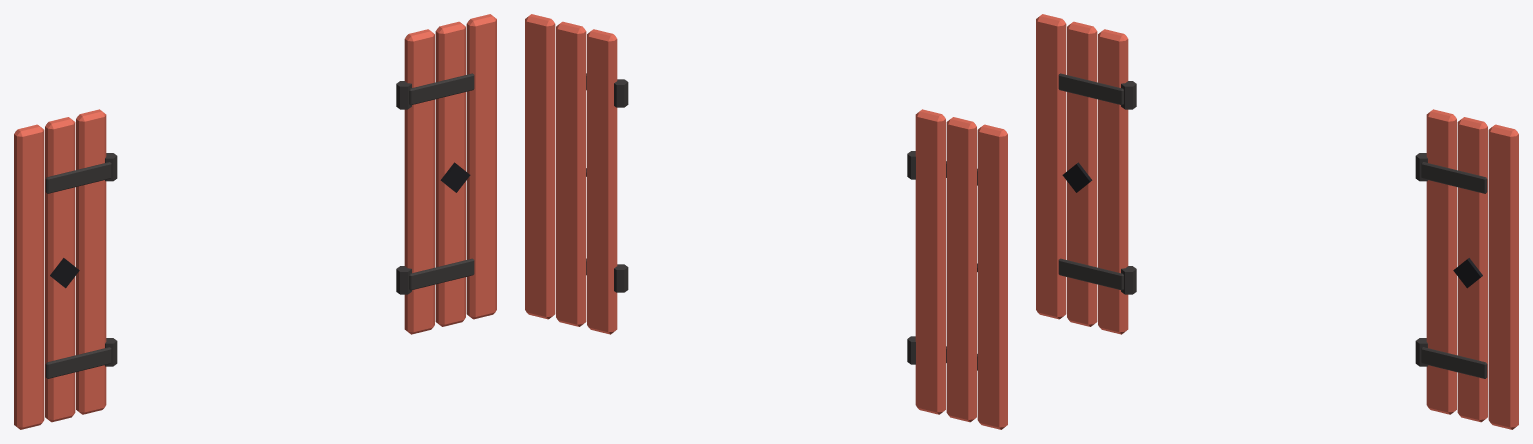
Rendered from window_shutters.glb.
3 renders of one model, left to right at view 1: azimuth 30°, elevation 25°; view 2: azimuth 150°, elevation 25°; view 3: azimuth 330°, elevation 25°, orthographic.
Parts seen in each view (by area): view 1: part_shutter_l, part_shutter_r; view 2: part_shutter_r, part_shutter_l; view 3: part_shutter_r, part_shutter_l.
Part boxes in pixels (left/top/right/bottom): part_shutter_l: left=14, top=109, right=117, bottom=429; part_shutter_r: left=396, top=14, right=496, bottom=334; part_shutter_r: left=525, top=14, right=628, bottom=334; part_shutter_l: left=907, top=109, right=1007, bottom=429; part_shutter_r: left=1415, top=109, right=1518, bottom=429; part_shutter_l: left=1036, top=14, right=1136, bottom=334.
Bounding box in the file's own units: 1.55 × 0.92 × 0.052.
